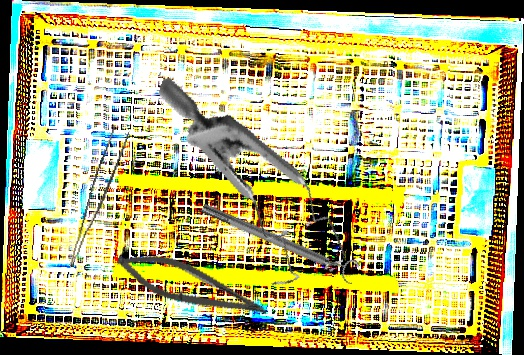Fixation Ring: (197, 194, 362, 287)
Micro Scissor: (111, 244, 274, 326)
Speculum: (113, 76, 380, 304)
Tissue Forceps: (69, 124, 130, 273)
